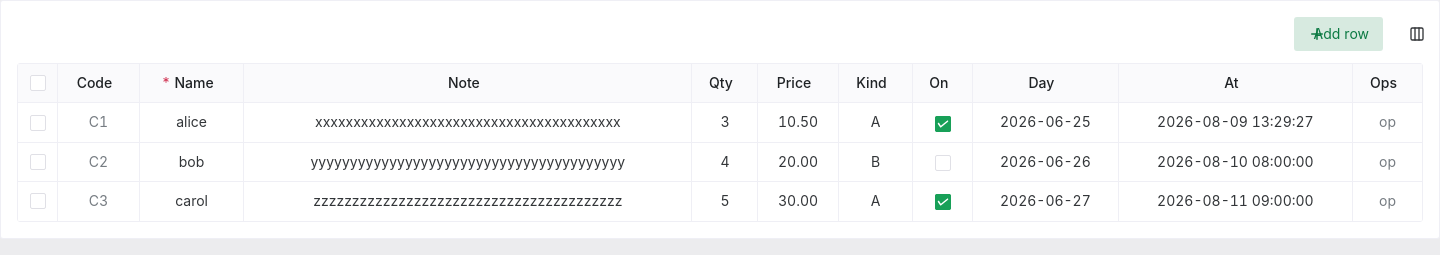
Test: 选中 → 进入编辑 → 提交 › Esc 放弃本格修改并退出编辑
Click the cell "alice".
click(192, 123)  # box [140,103,244,143]
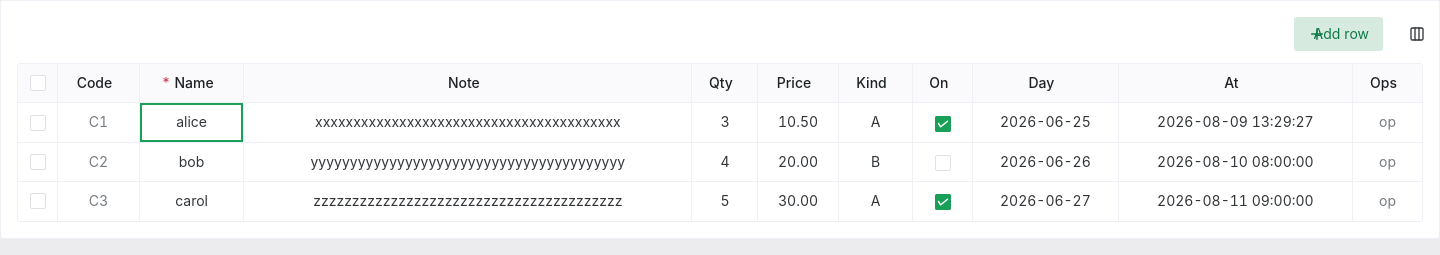
Click the cell "alice".
click(192, 123)  # box [140,103,244,143]
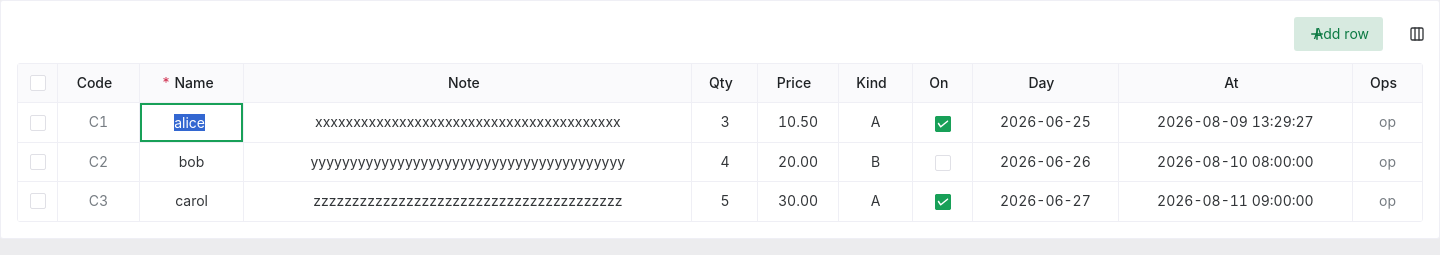
Replace the text in the field with "zed" at (190, 123), box [148,103,231,142]
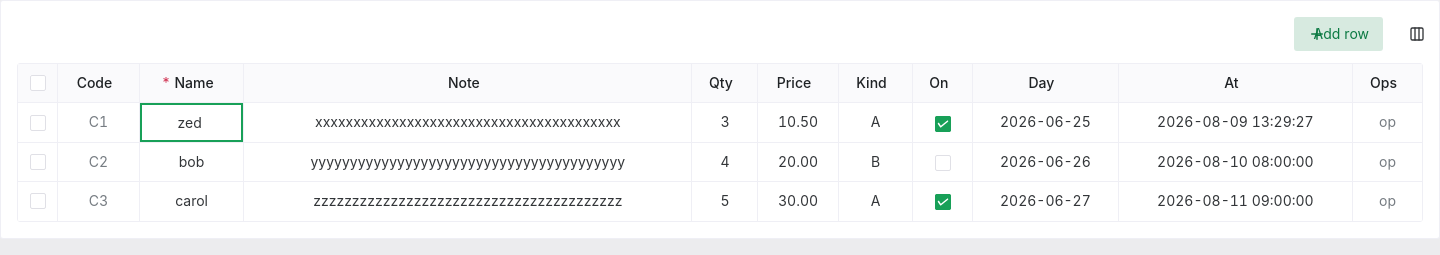
Press Escape
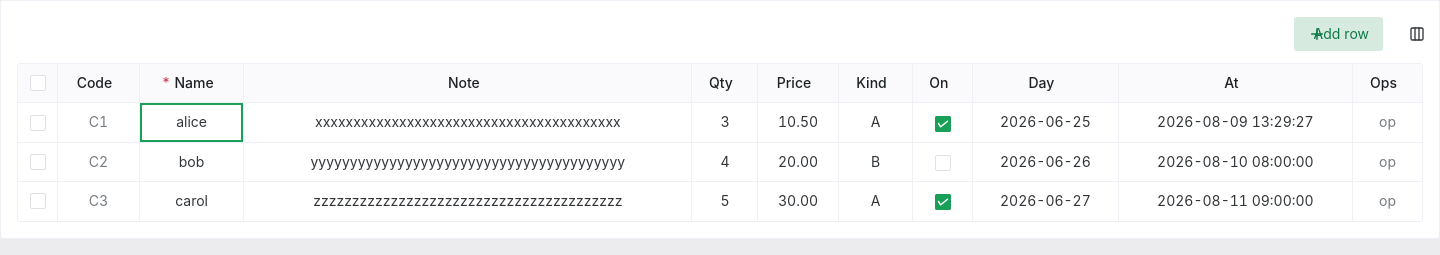
expect the cell "alice" is shown: met, box [140,103,244,143]
